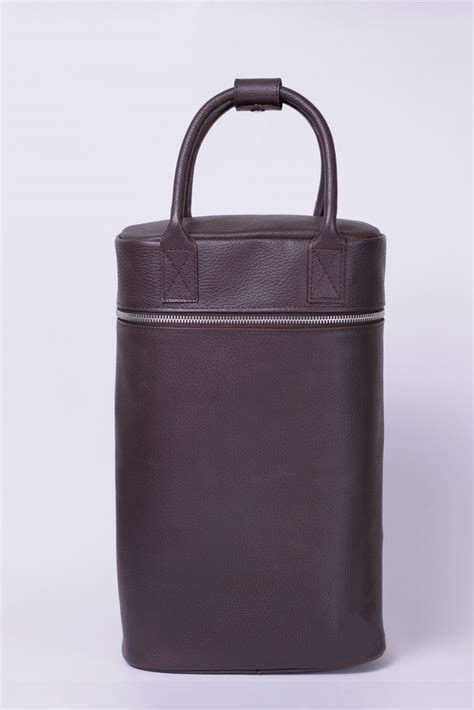cuero: (115, 76, 388, 671)
